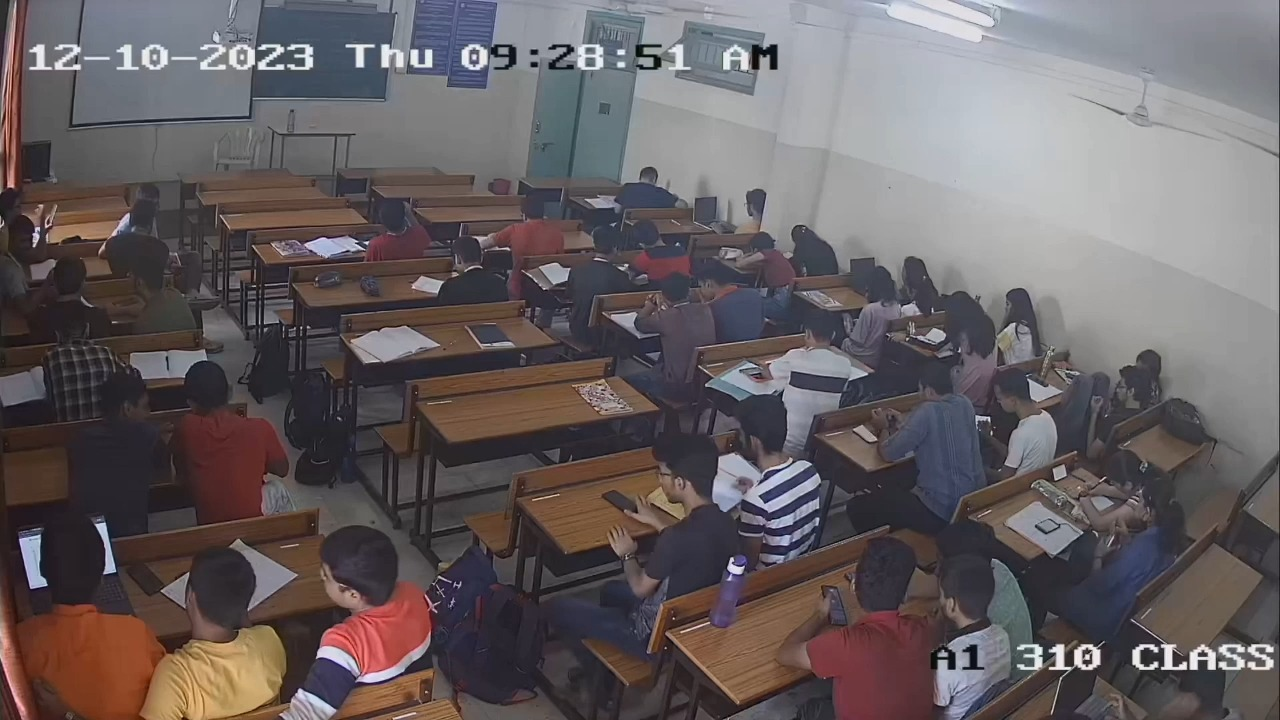cell-phones: (125, 560, 166, 597), (820, 583, 849, 627), (601, 489, 644, 515), (1034, 517, 1062, 534), (1051, 462, 1068, 483), (1028, 373, 1050, 388)
person: (143, 543, 289, 720), (796, 536, 934, 720), (611, 428, 745, 594), (1080, 478, 1185, 637), (1085, 446, 1149, 535), (1086, 362, 1150, 440)
